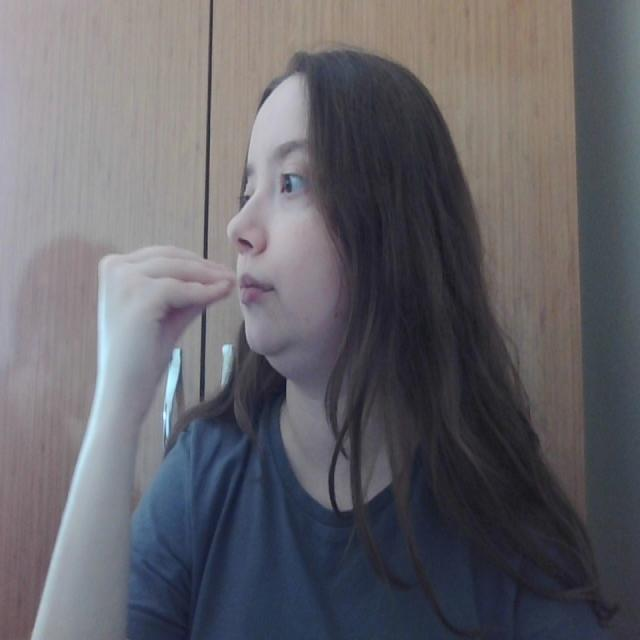Yemek: (94, 246, 278, 326)
